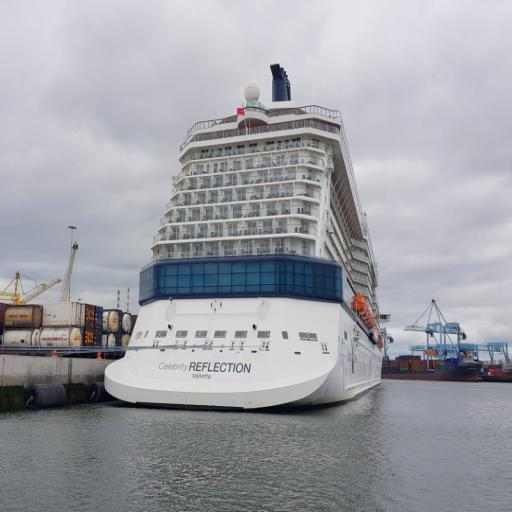cruises: (102, 60, 393, 422)
